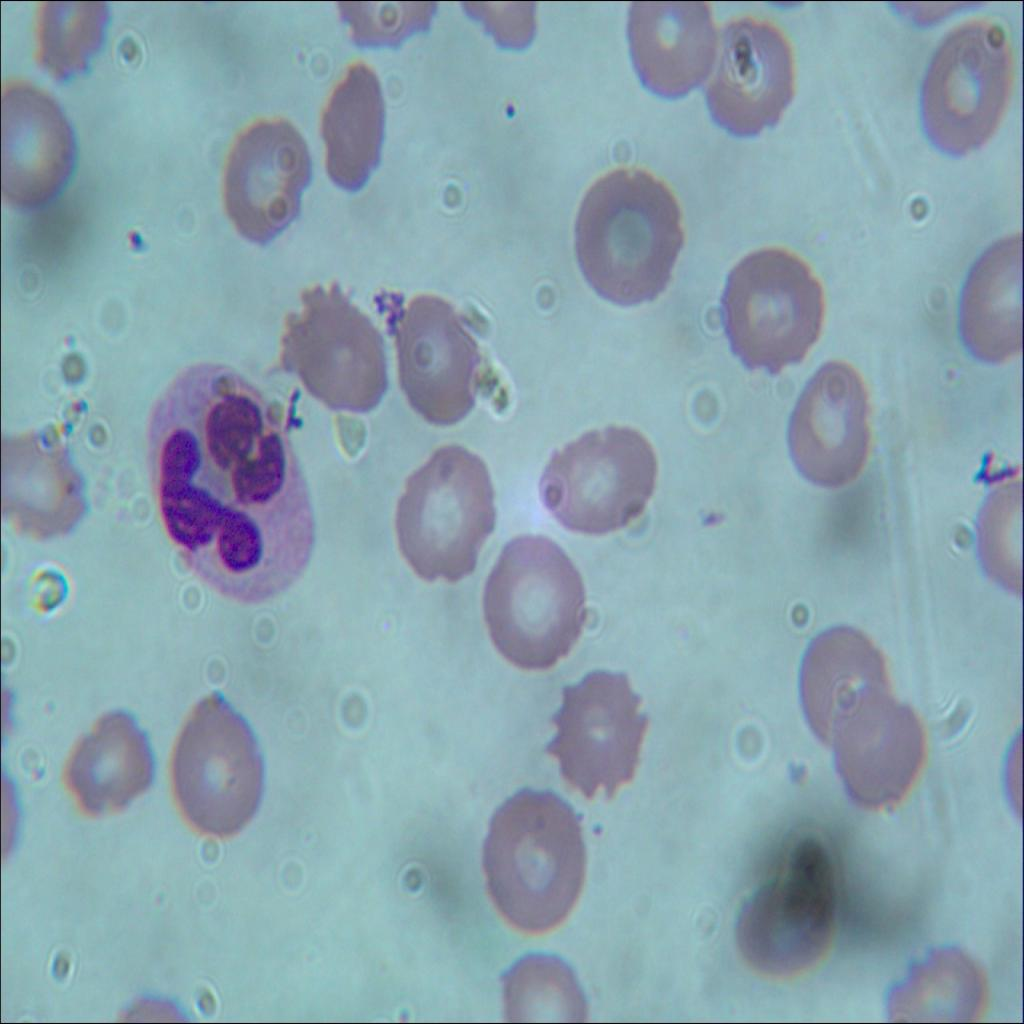Eritrosit: (568, 165, 684, 315), (479, 784, 589, 935), (391, 442, 496, 592), (479, 535, 589, 669), (722, 239, 826, 375), (541, 415, 655, 538), (174, 692, 270, 838), (553, 662, 650, 804), (913, 22, 1011, 161), (288, 284, 389, 418), (778, 360, 882, 490), (223, 114, 316, 249), (794, 618, 888, 748), (390, 288, 476, 428), (706, 17, 798, 141), (836, 692, 930, 812), (55, 707, 154, 818), (0, 426, 86, 550), (624, 0, 719, 109), (0, 85, 74, 221), (729, 881, 836, 975), (318, 67, 396, 195), (964, 233, 1023, 368), (888, 944, 986, 1023), (489, 948, 591, 1023), (28, 0, 114, 76)
Neutrofil: (146, 354, 314, 599)
Platelet: (124, 222, 150, 254), (498, 97, 518, 121)
